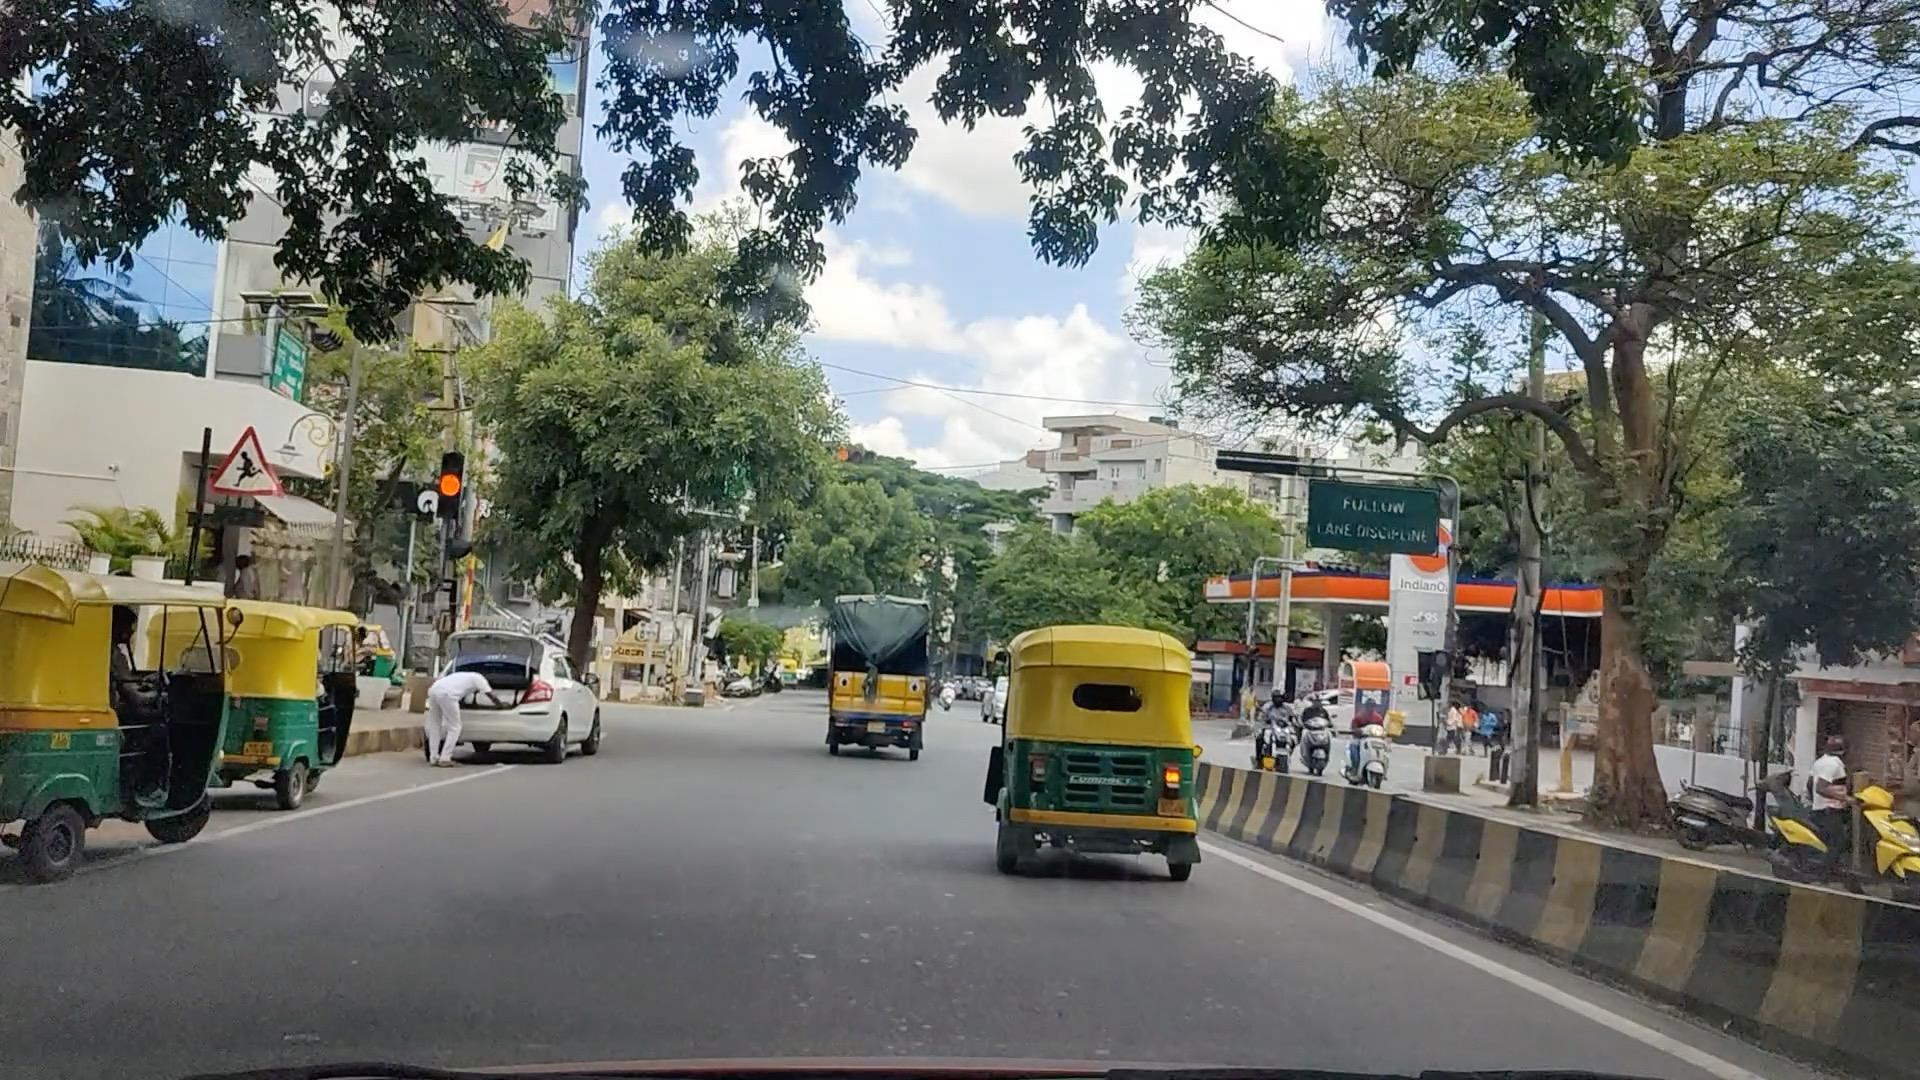HMV: (830, 598, 922, 748)
LMV: (1017, 642, 1205, 880)
